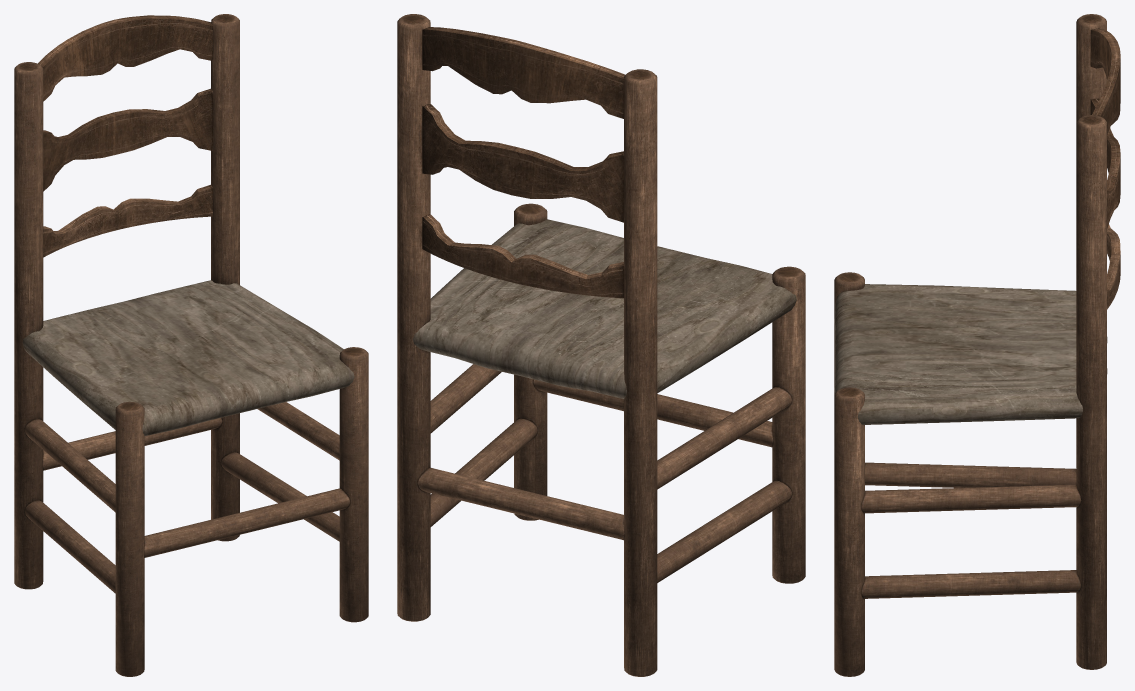
File: post_apocalyptic_ruined_chair_style_1.glb
3 views of the same model, side by side, from view 1: azimuth 30°, elevation 25°; view 2: azimuth 150°, elevation 25°; view 3: azimuth 270°, elevation 25° (orthographic). The views are drawn at different scales.
Visible parts, largest first — view 1: Cylinder, Cylinder.003, Cube.002, Cylinder.001; view 2: Cylinder, Cylinder.003, Cube.002, Cylinder.001; view 3: Cylinder.003, Cylinder, Cylinder.001, Cube.002.
Boxes of the visible parts, <box> form: Cylinder: <box>14,14,368,676</box>; Cylinder.003: <box>22,280,354,436</box>; Cube.002: <box>37,15,212,257</box>; Cylinder.001: <box>24,402,349,593</box>; Cylinder: <box>397,14,805,676</box>; Cylinder.003: <box>412,219,796,398</box>; Cube.002: <box>422,27,625,298</box>; Cylinder.001: <box>417,364,792,582</box>; Cylinder.003: <box>834,284,1107,424</box>; Cylinder: <box>834,14,1106,676</box>; Cylinder.001: <box>861,462,1081,598</box>; Cube.002: <box>1090,28,1120,309</box>.
Bounding box in the file's own units: 0.7511 × 1.53 × 0.7095.
1 material, 1 textured.
